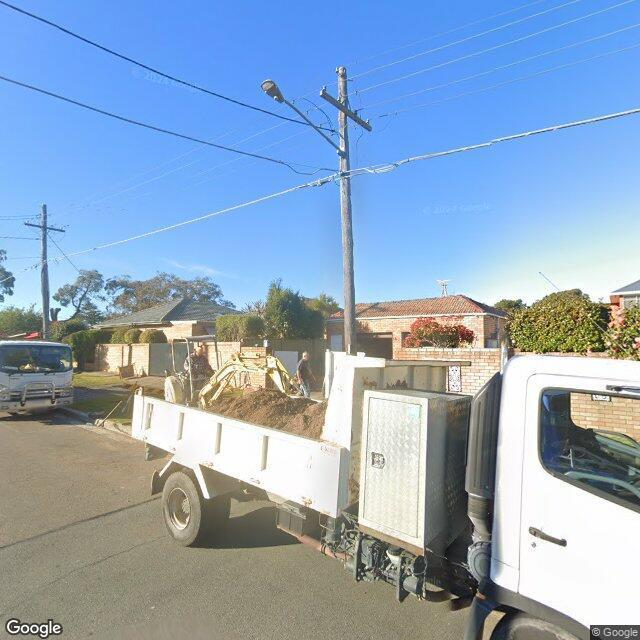crossarm: (317, 89, 373, 133), (23, 221, 66, 234)
streetlight: (260, 79, 346, 158)
timber-pole: (338, 66, 357, 356), (41, 204, 49, 339)
